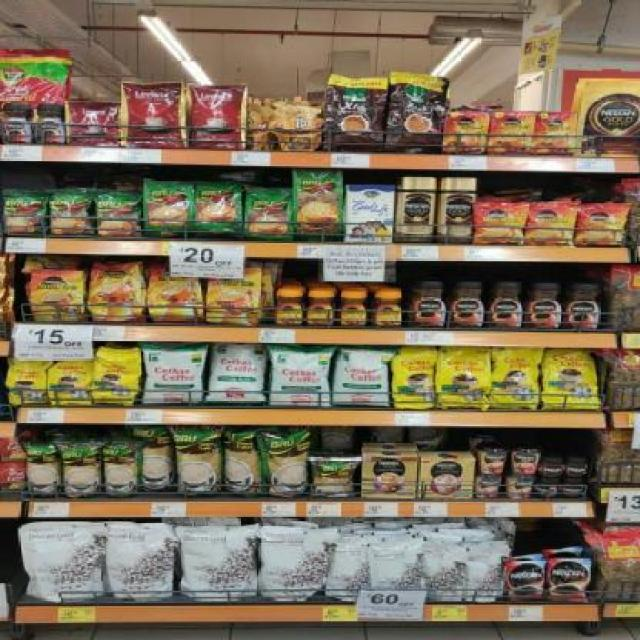Coffee: (206, 267, 260, 325), (147, 263, 201, 320), (90, 263, 142, 320), (30, 270, 85, 322), (401, 176, 436, 244), (441, 178, 474, 245), (478, 204, 524, 244), (550, 557, 590, 600), (530, 206, 572, 245), (565, 284, 600, 330), (579, 208, 623, 244), (411, 280, 444, 328), (489, 282, 522, 330), (526, 282, 560, 328), (449, 282, 483, 327), (506, 562, 546, 600), (36, 103, 64, 143), (2, 105, 30, 143), (306, 291, 336, 326), (276, 290, 304, 325), (375, 290, 402, 325), (341, 290, 365, 324), (561, 479, 591, 499), (533, 479, 559, 499), (540, 457, 565, 477), (568, 456, 589, 476)
